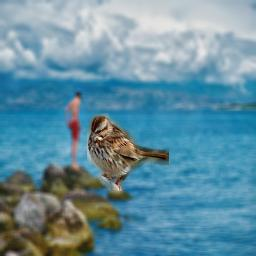Sparrow: (87, 113, 169, 191)
